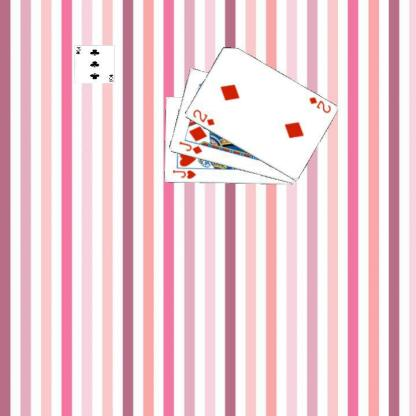2D: (306, 94, 332, 115), (190, 107, 216, 127)
JD: (176, 139, 204, 156)
JH: (170, 168, 197, 180)
